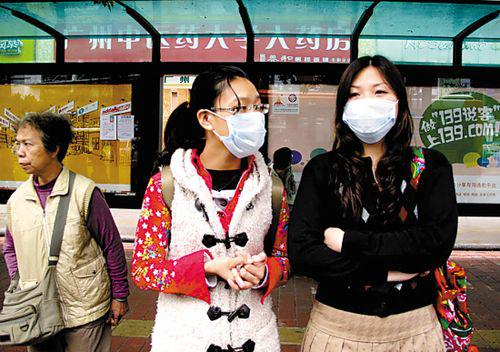NONE: (15, 133, 47, 173)
OK: (341, 80, 401, 140), (214, 95, 273, 154)
